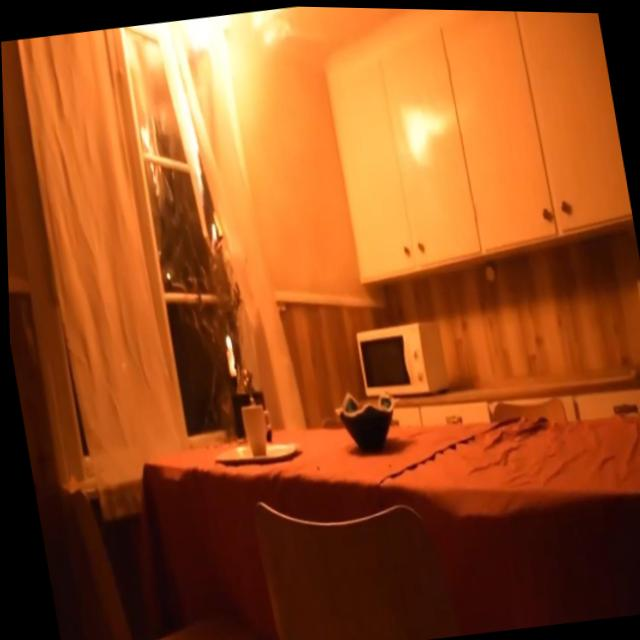fire: (125, 4, 316, 161), (222, 328, 233, 351)
